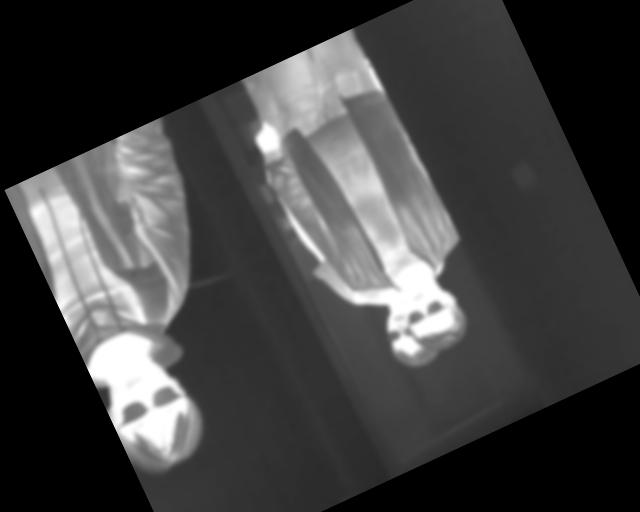face: (90, 338, 217, 485), (391, 267, 472, 359), (375, 300, 437, 375)
